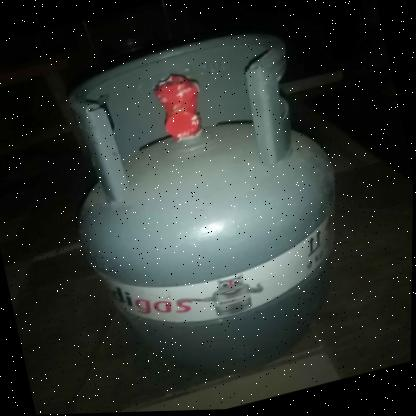gas-tank: (33, 7, 396, 414)
